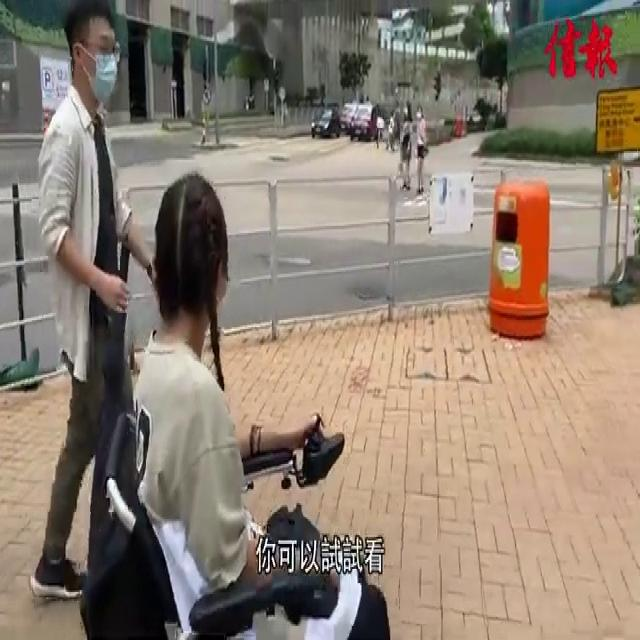wheelchairs: (75, 410, 412, 640)
